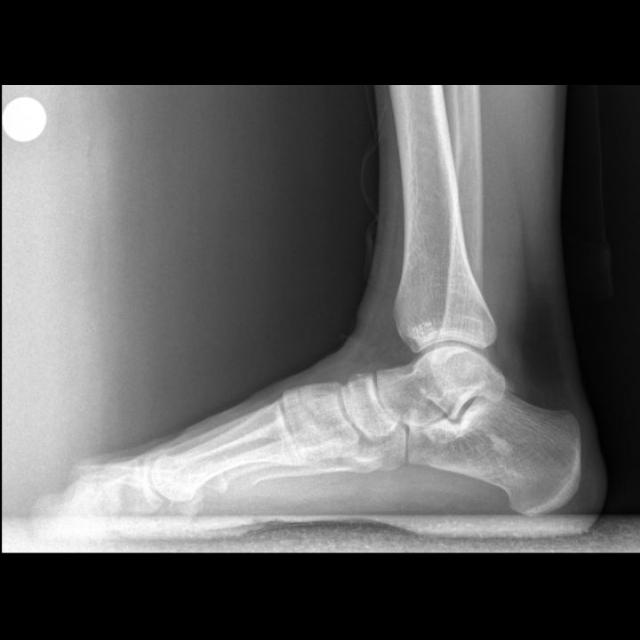a: (408, 389, 581, 517)
b: (341, 372, 397, 441)
c: (153, 400, 308, 502)
